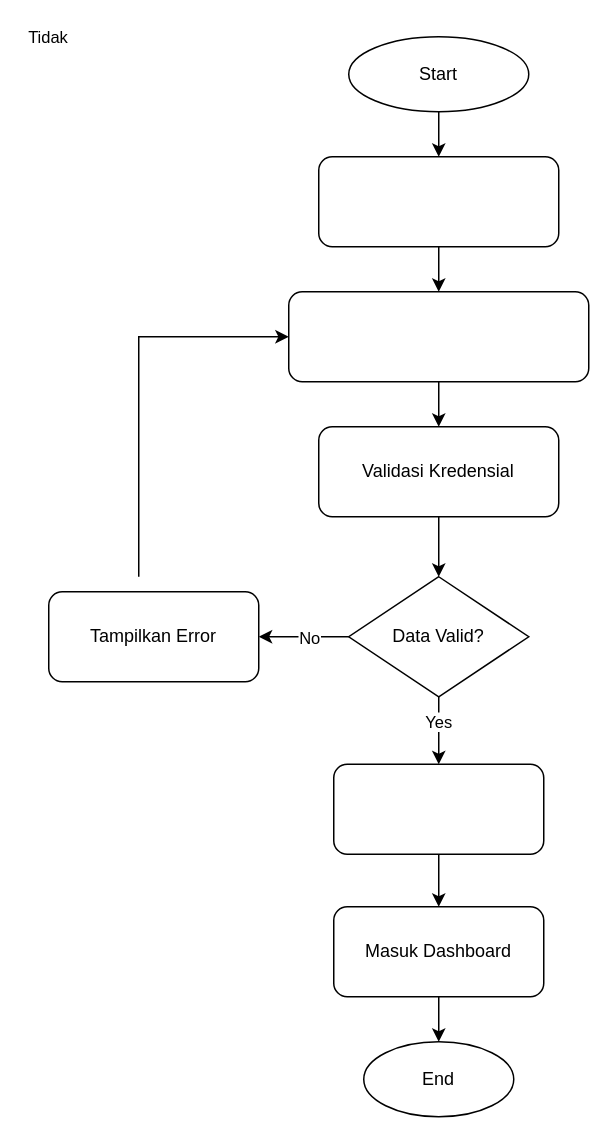
Some shapes in this 615 by 1143 pixel diagram are drawn without their labels. The shapes that lost their labels are listed below. From the top down, each one's box as (x1, y1, x2, y2) in pixels, then its label:
(317, 155, 559, 247): Buka Halaman Login
(287, 290, 589, 382): Input Username & Password
(332, 763, 544, 854): Login Berhasil
